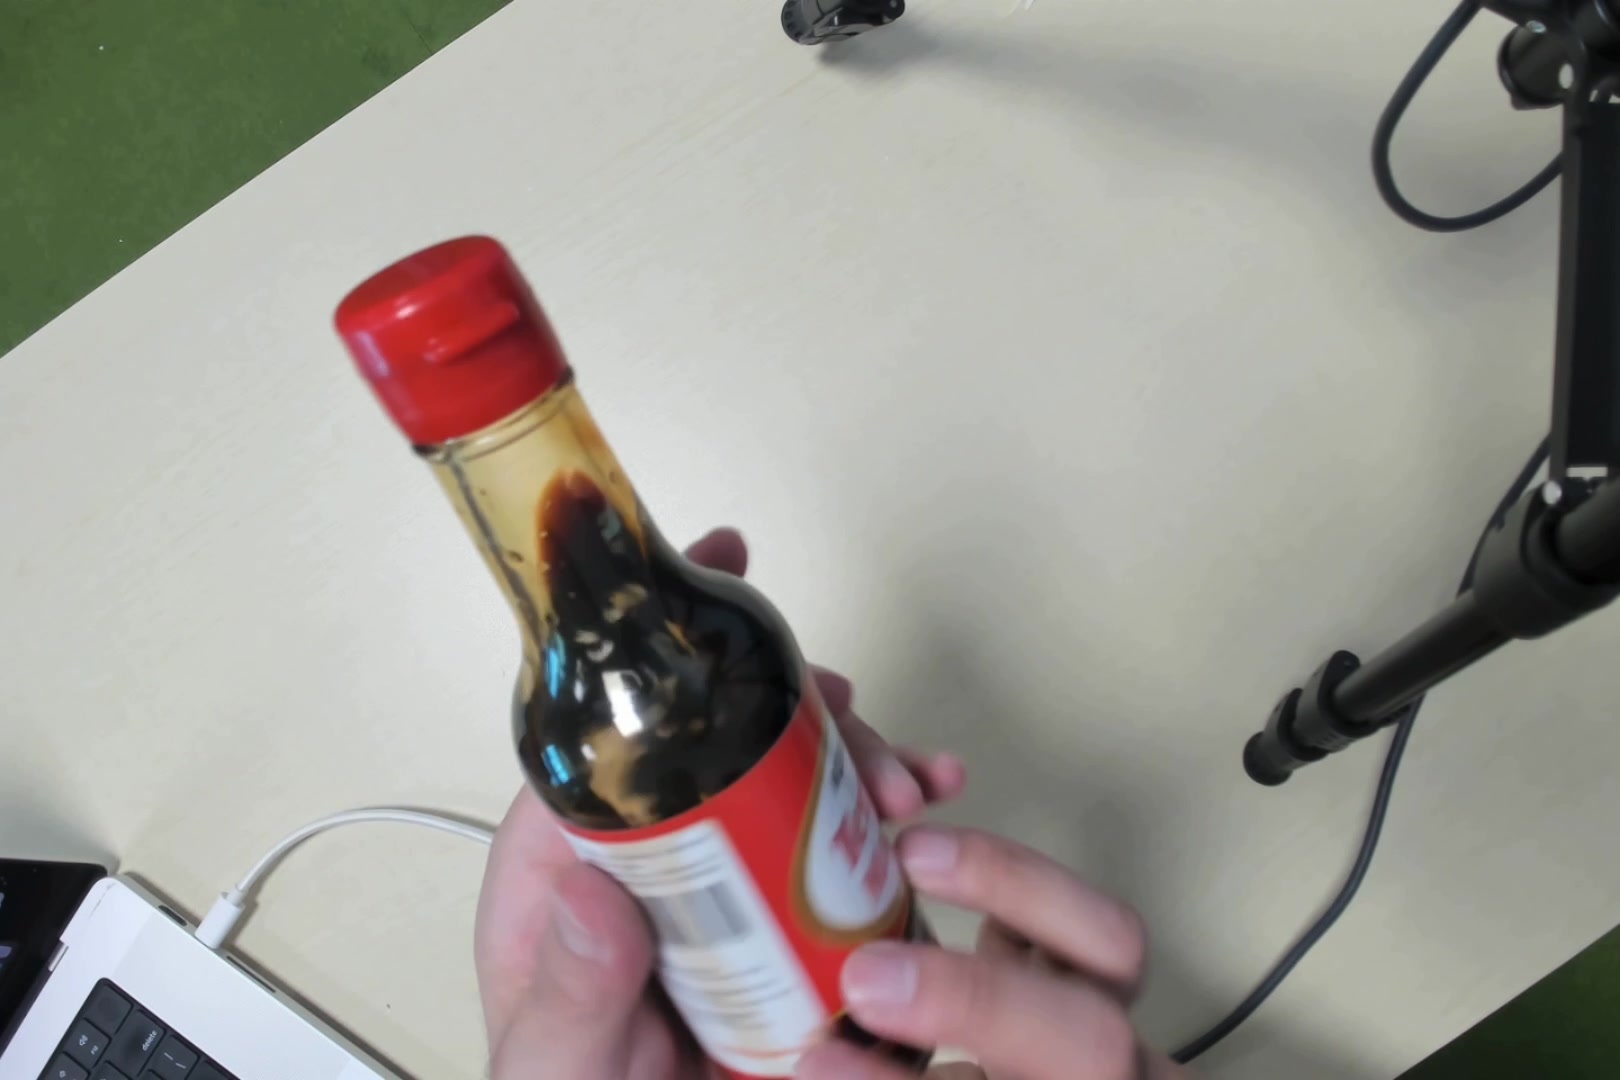OtherSauceDressingSoupbasePaste_200-299g_NonHalal_NonHealthy: (319, 263, 896, 1012)
